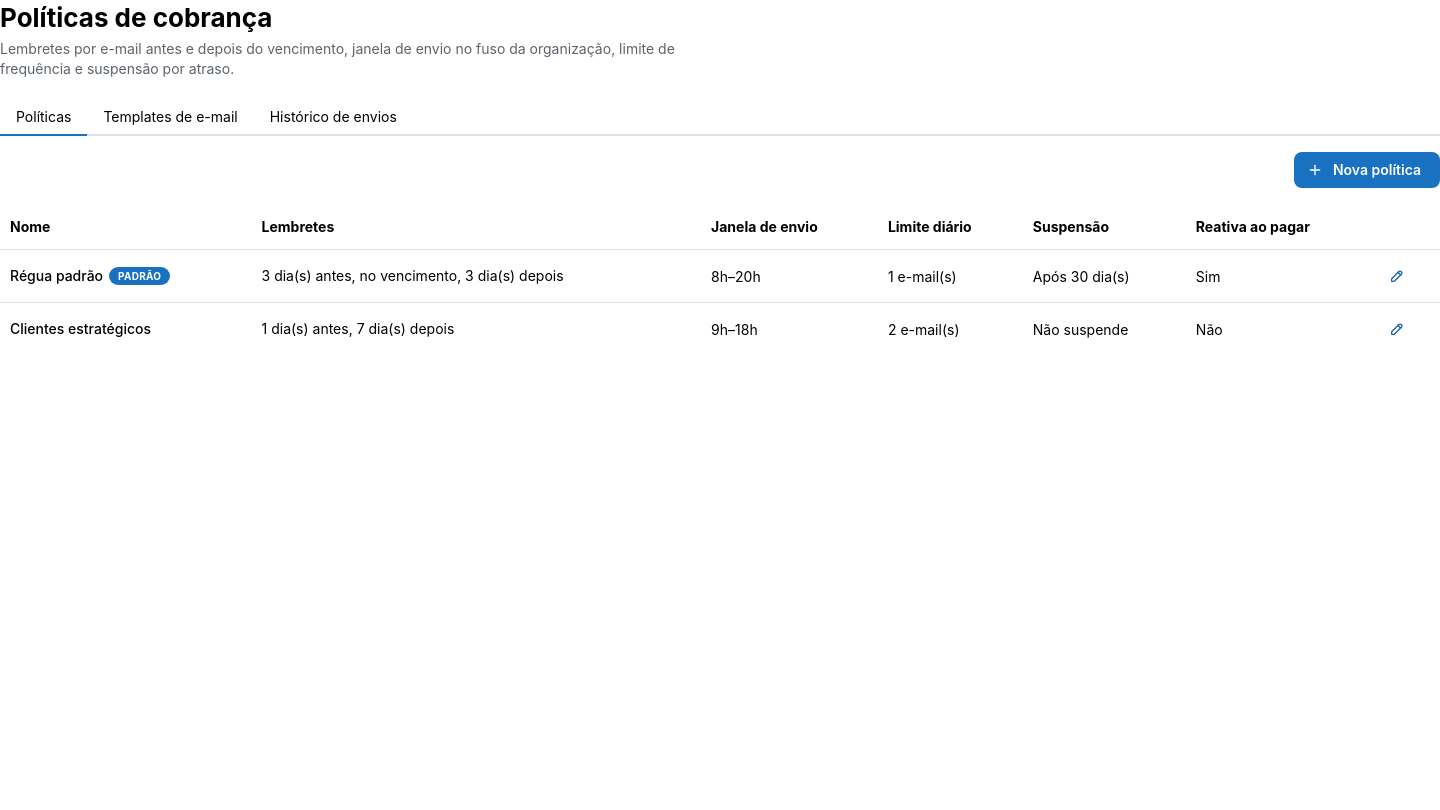
políticas de cobrança › edita a política com If-Match da versão e desliga a suspensão
The width and height of the screenshot is (1440, 810).
Click the button named "Editar política Régua padrão": (1397,276) x1=1383 y1=262 x2=1411 y2=290
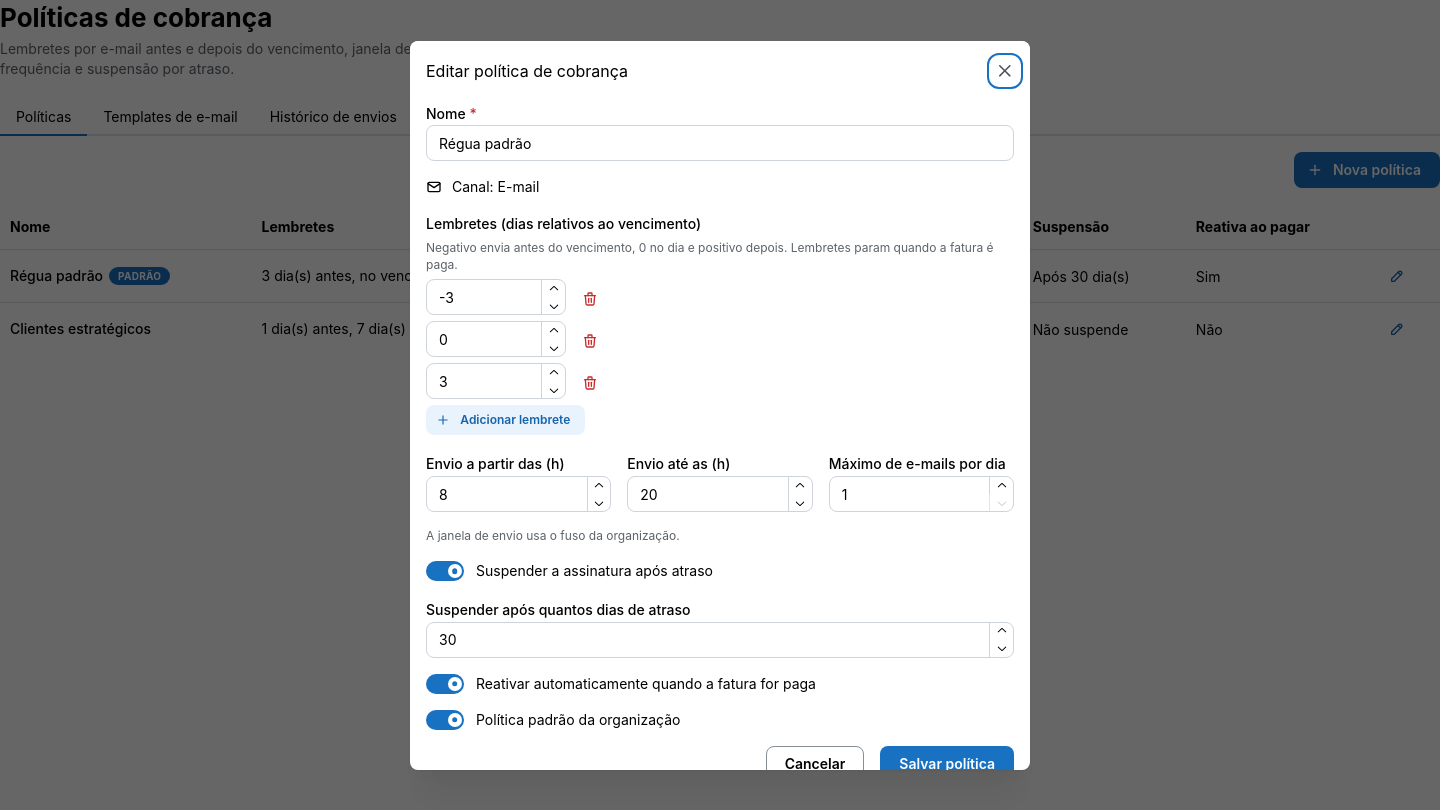
Expected: the field labelled "Nome *" holds "Régua padrão"
Expected: the field named "Lembrete 3 (dias)" holds "3", x1=426 y1=364 x2=566 y2=400
Expected: the field labelled "Suspender após quantos dias de atraso" holds "30", x1=426 y1=622 x2=1014 y2=658
Replace the text in the field labelled "Nome *" with "Régua padrão revisada": (720,143) x1=426 y1=125 x2=1014 y2=161
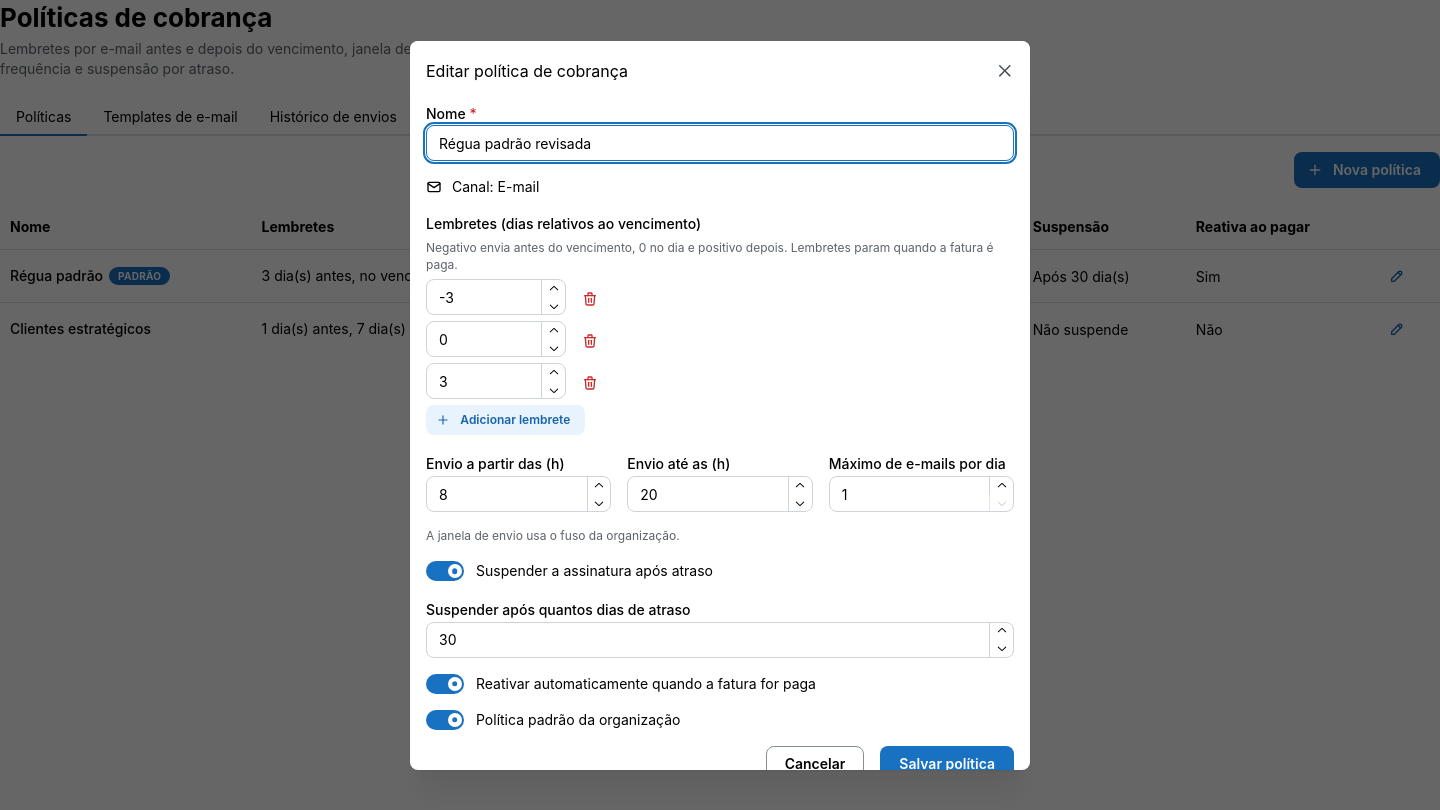
Click the switch labelled "Suspender a assinatura após atraso": (570,571) x1=426 y1=561 x2=713 y2=581
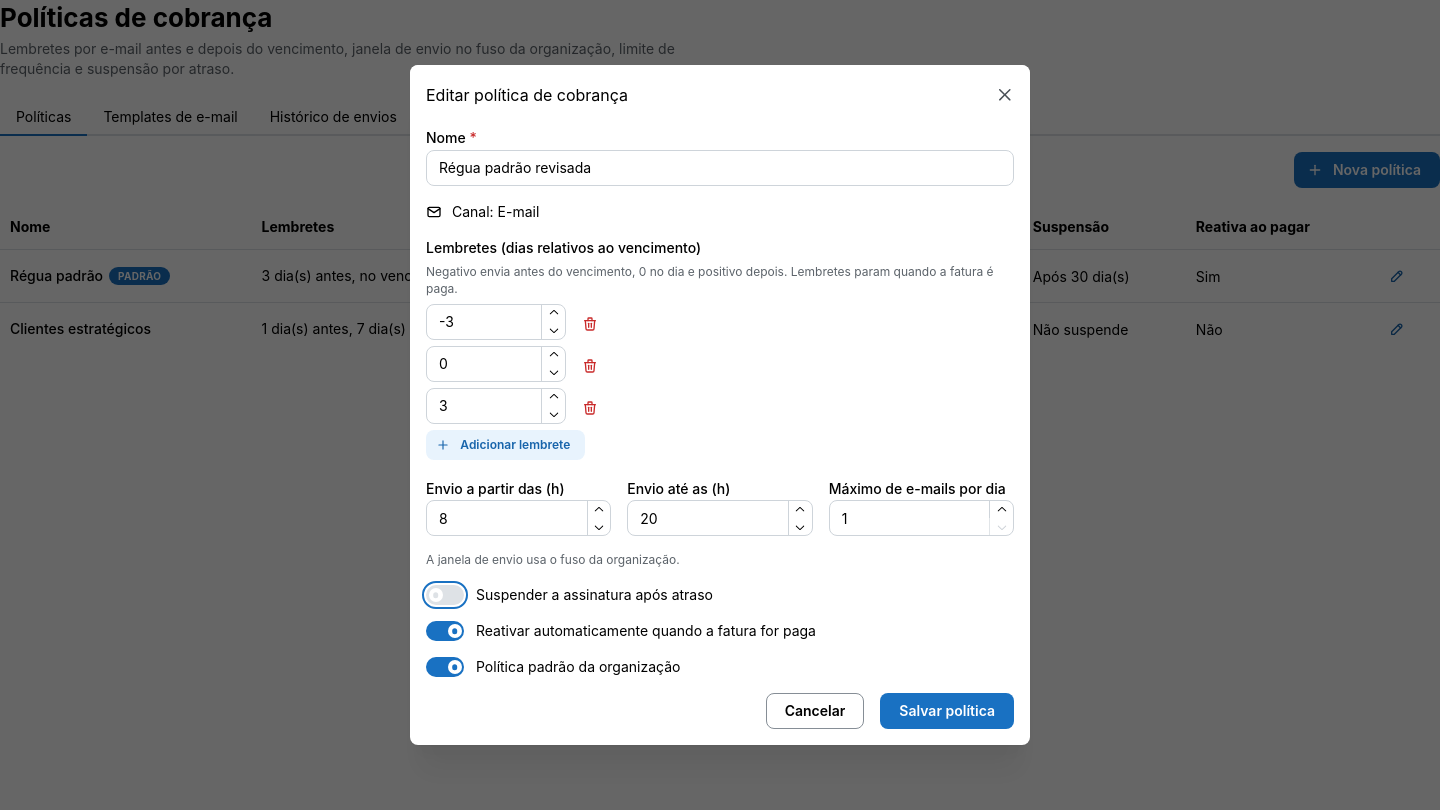
Expected: the label labelled "Suspender após quantos dias de atraso" is gone
Click the button "Salvar política": (947,711) x1=880 y1=693 x2=1014 y2=729
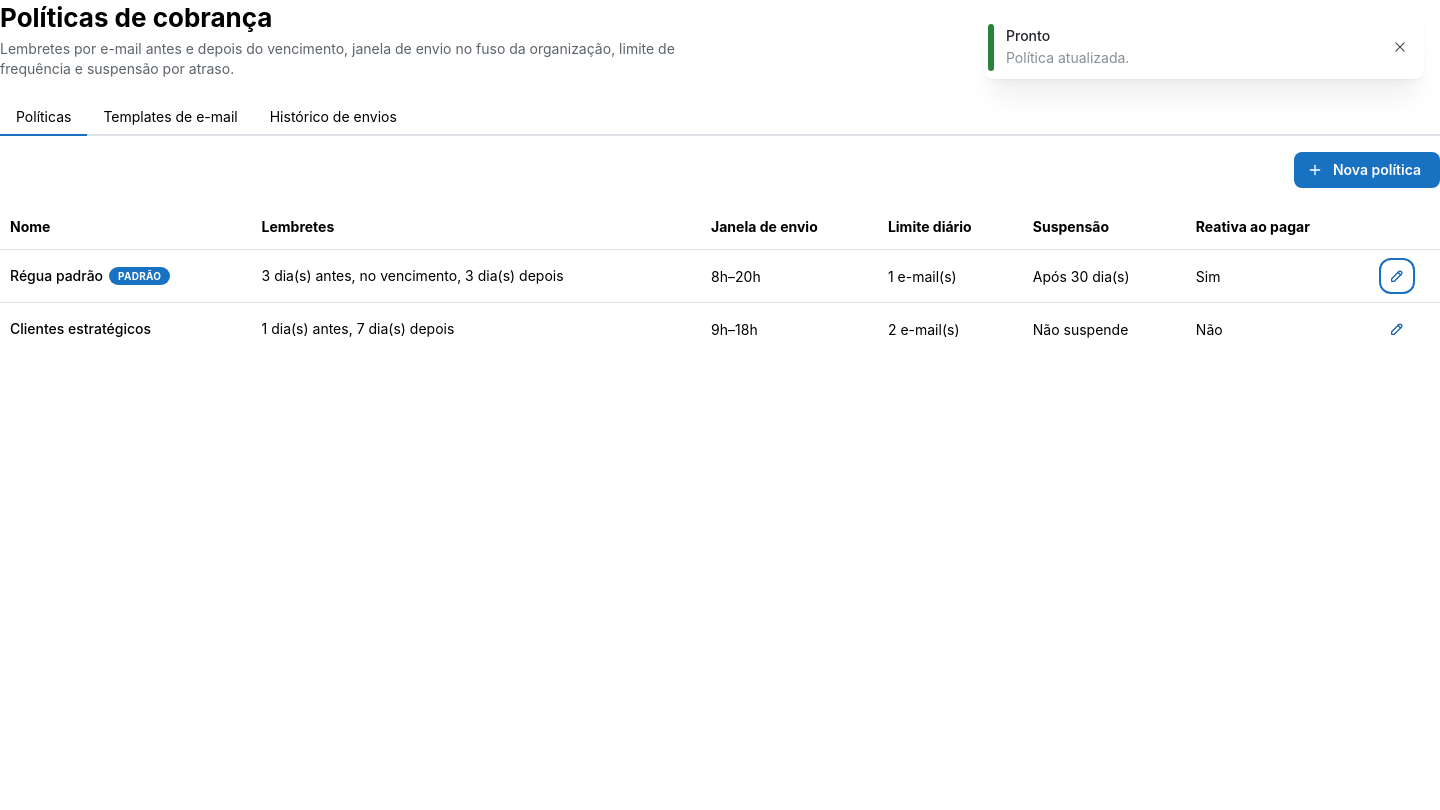
Expected: the text "Política atualizada." is shown, x1=1006 y1=49 x2=1129 y2=66
